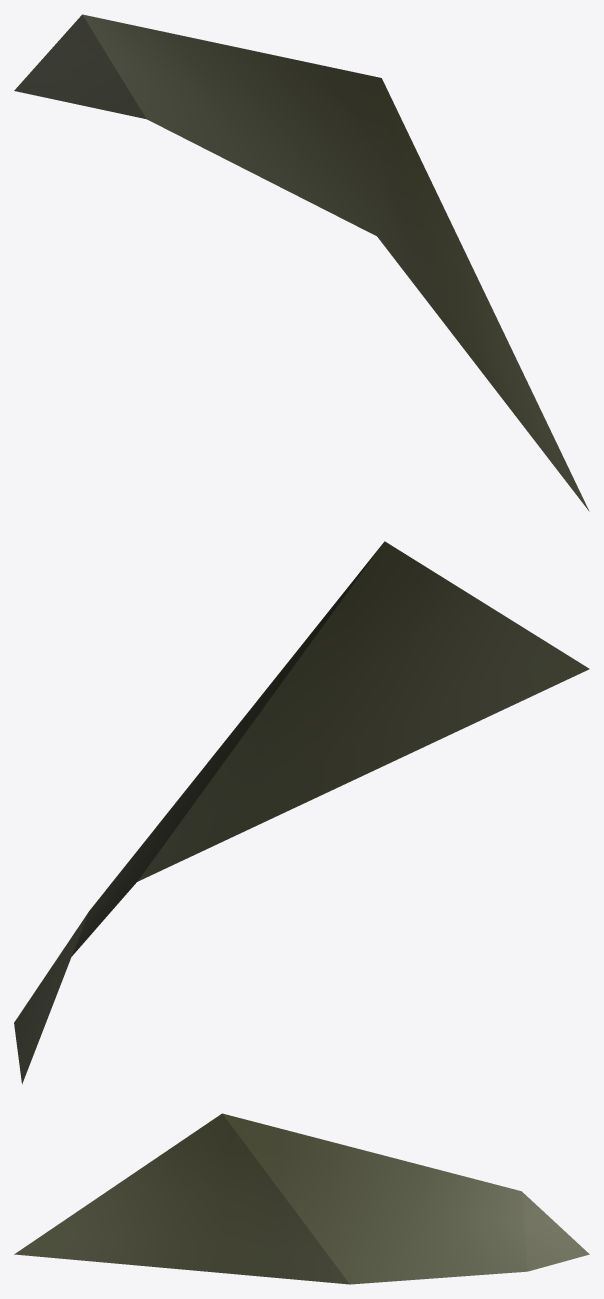
The picture shows the model from 3 angles, top to bottom: view 1: azimuth 30°, elevation 25°; view 2: azimuth 150°, elevation 25°; view 3: azimuth 270°, elevation 25°; orthographic projection. The views are drawn at different scales.
Bounding box in the file's own units: 0.016 × 0.035 × 0.1294.
Materials: 1 (1 with a texture image).
